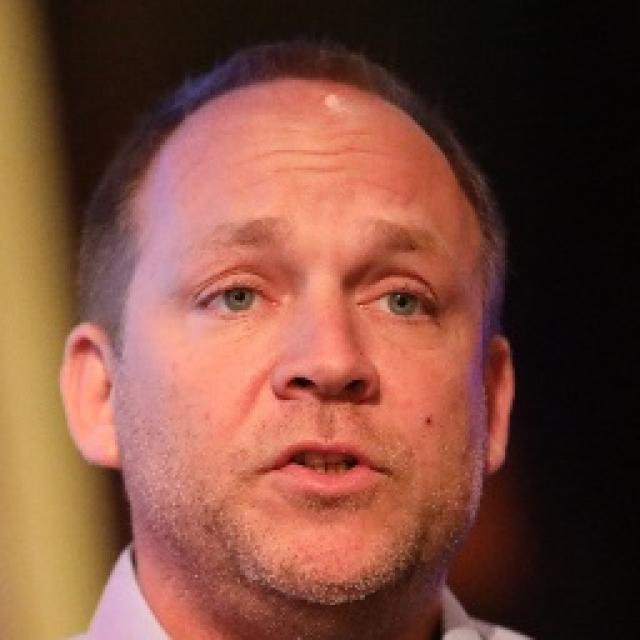earlobe: (74, 422, 126, 471), (483, 432, 508, 476)
eye: (196, 275, 278, 320), (362, 279, 437, 325)
nose: (272, 380, 377, 430)
wholeear: (56, 324, 125, 469), (480, 335, 517, 476)
